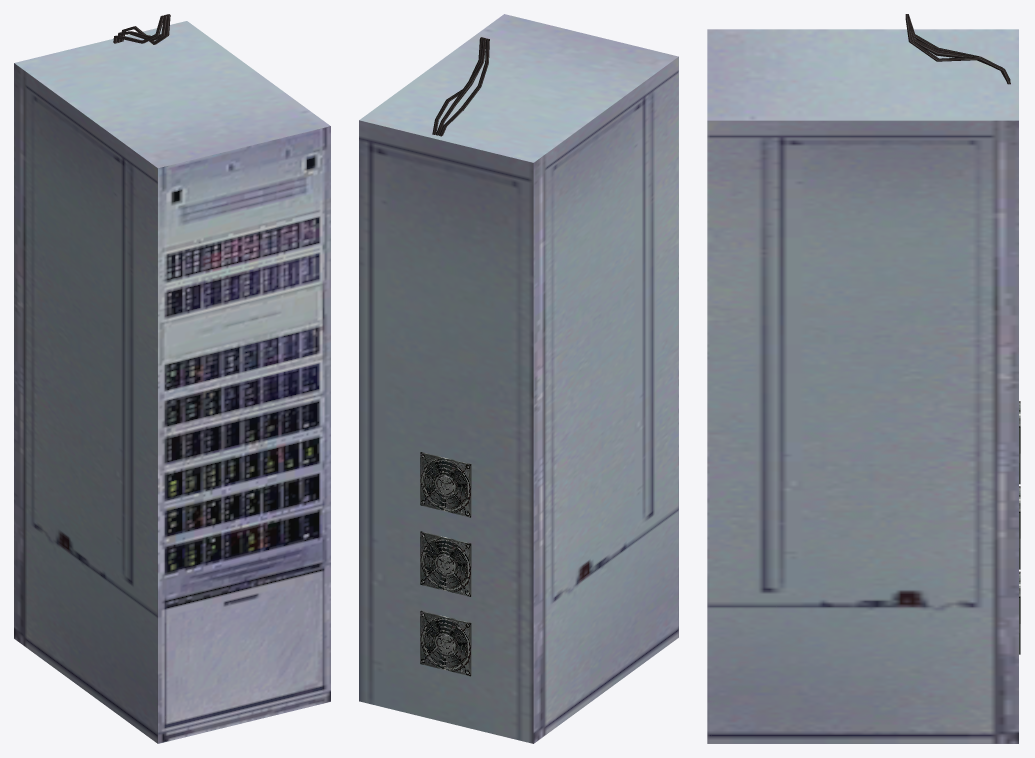
File: case_2.fbx
The picture shows the model from 3 angles, left to right: view 1: azimuth 30°, elevation 25°; view 2: azimuth 150°, elevation 25°; view 3: azimuth 270°, elevation 25°; orthographic projection. The views are drawn at different scales.
Visible parts, largest first — view 1: mesh_0, mesh_1; view 2: mesh_0, mesh_2, mesh_1; view 3: mesh_0, mesh_1.
Part boxes in pixels (<box>): mesh_0: <box>14,21,330,743</box>; mesh_1: <box>113,14,170,44</box>; mesh_0: <box>359,14,678,743</box>; mesh_2: <box>420,452,471,676</box>; mesh_1: <box>432,37,489,136</box>; mesh_0: <box>707,29,1018,743</box>; mesh_1: <box>905,14,1010,84</box>.
Bounding box in the file's own units: 69.03 × 243 × 100.
3 materials, 3 textured.
